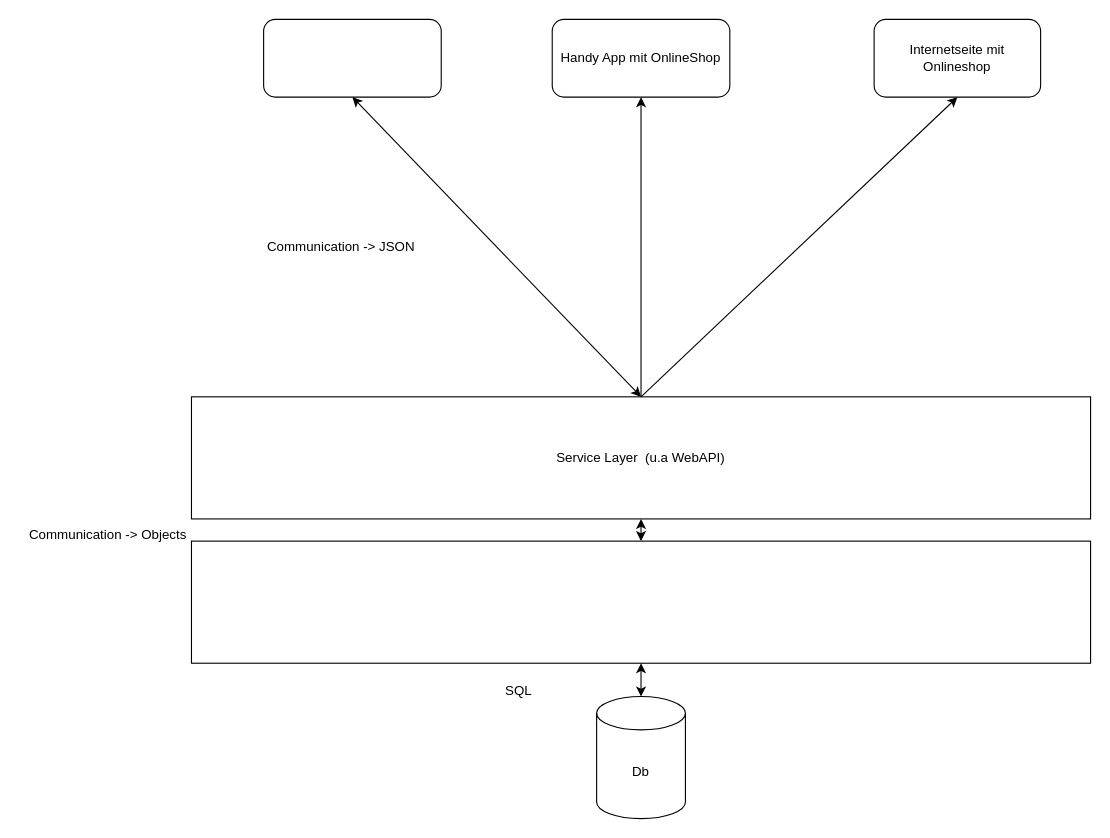
Image size: 1110x838. Some labels were removed from this diagram. The shapes that lost their labels are listed below. From the top down, each one's centre as x and y in pixels, then its label:
At point 352,57: "DesktopApp für BackOffice".
At point 640,601: "DataAccess Layer".
